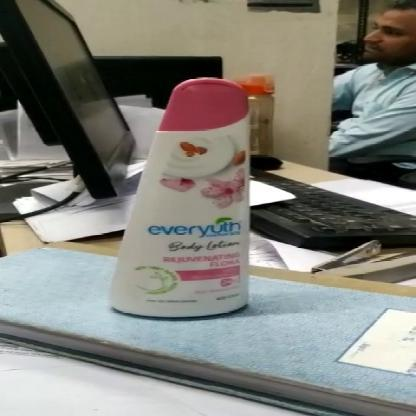Everyuth Naturals Body Lotion Rejuvenating Flora 200ml: (108, 76, 260, 321)
